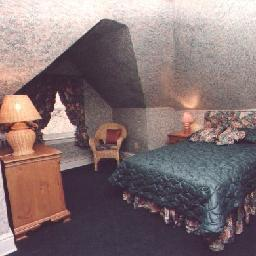Cama: (120, 128, 251, 223)
